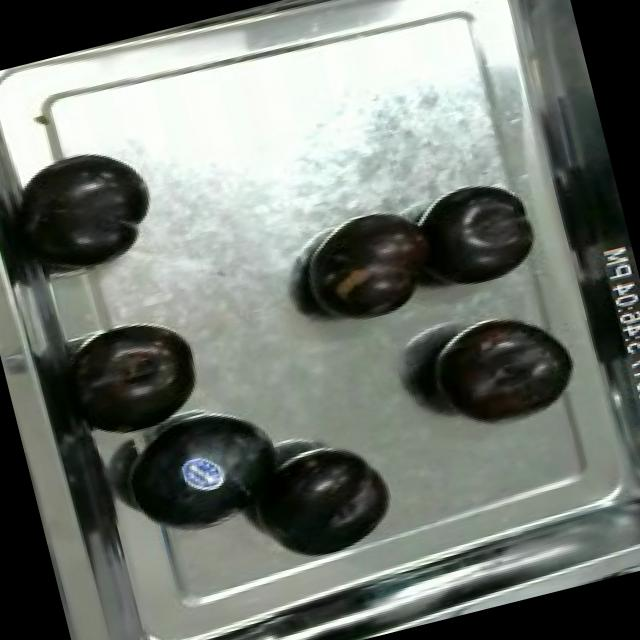Fruit: (113, 386, 303, 548), (411, 299, 590, 447), (238, 426, 409, 578), (6, 134, 168, 284), (54, 304, 219, 450), (287, 206, 449, 336), (402, 171, 546, 301)
